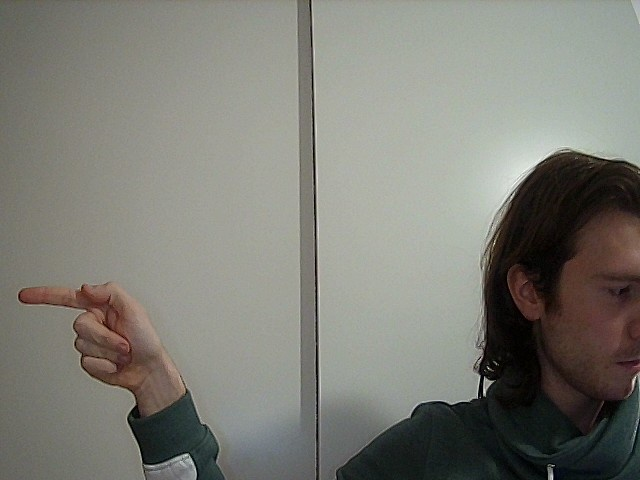g: (12, 257, 196, 411)
